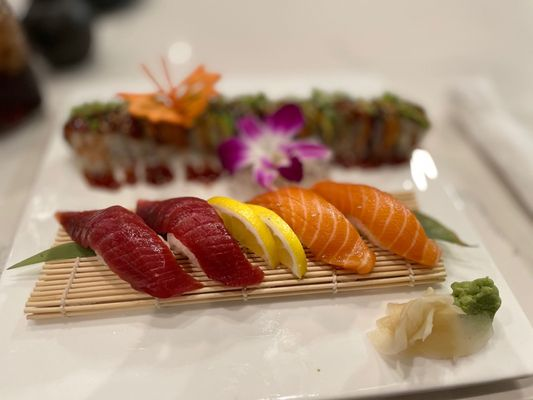curry: (451, 277, 502, 318)
taco: (308, 179, 440, 267), (248, 186, 376, 274)
